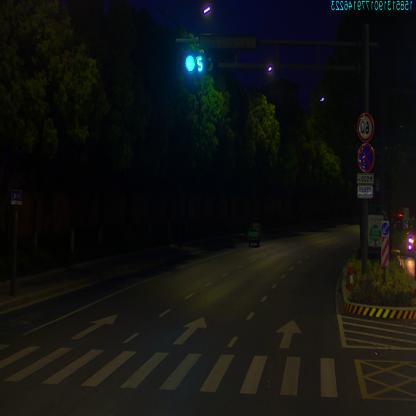traffic-light: (179, 52, 205, 81)
